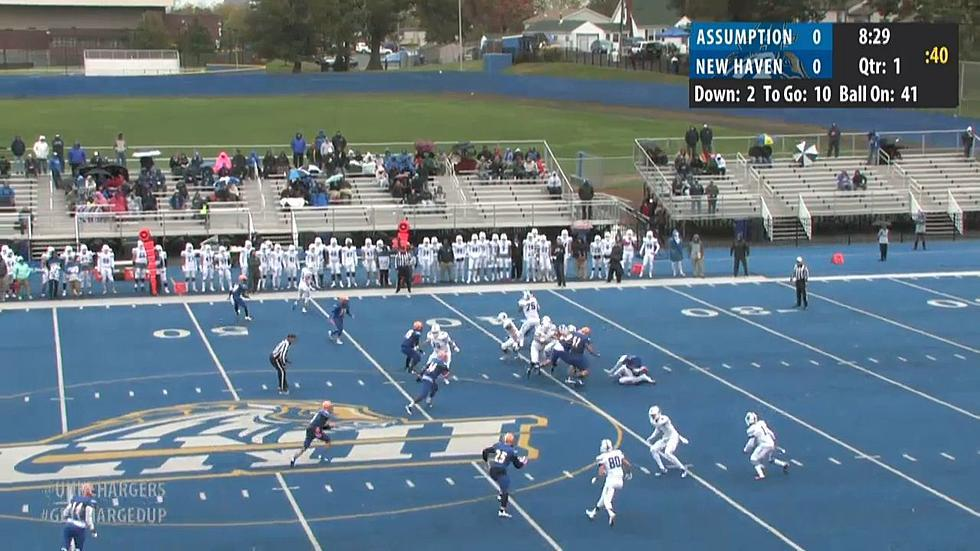30R: (680, 305, 798, 318)
40R: (426, 316, 538, 327)
50: (152, 325, 250, 338)
